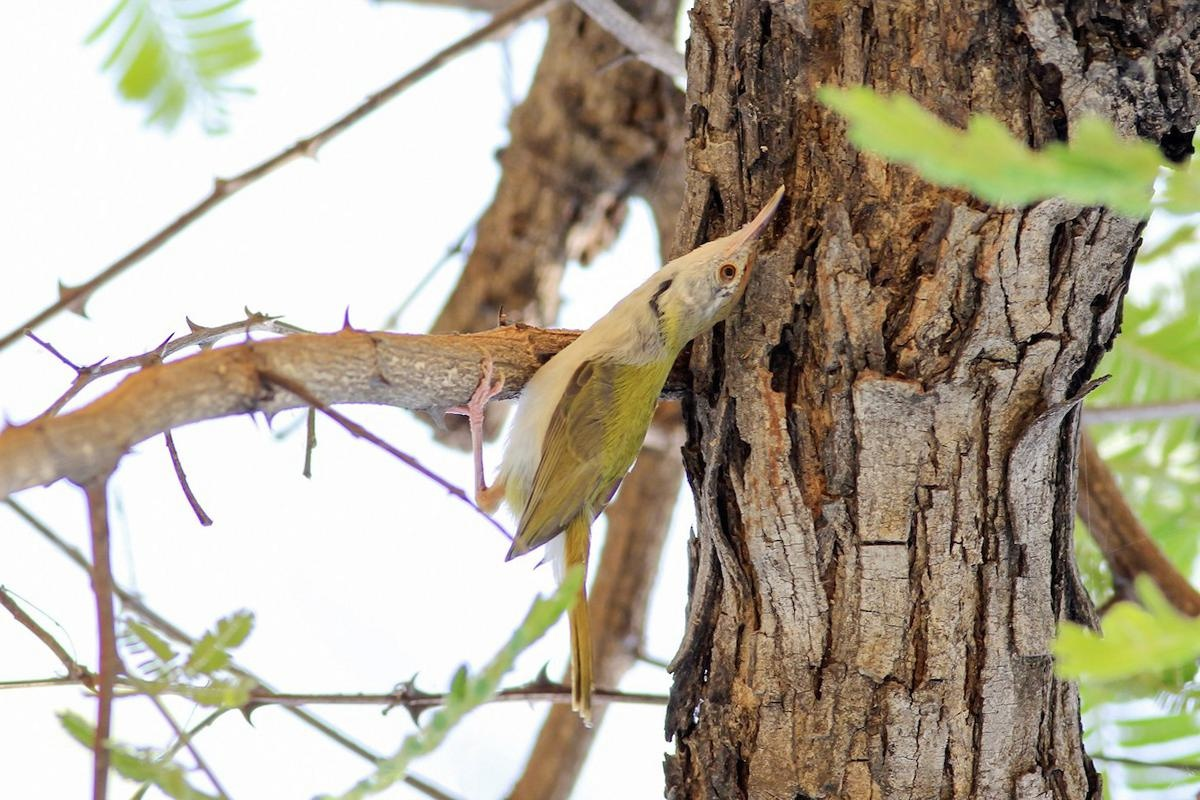tailorbird: (427, 181, 801, 684)
